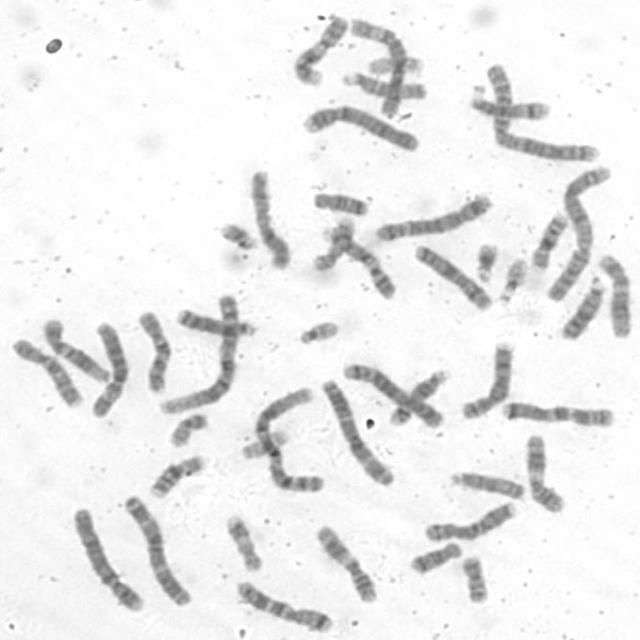A1: (158, 294, 240, 416), (254, 386, 325, 494)
A2: (486, 62, 602, 164), (543, 164, 612, 302)
A3: (319, 378, 396, 487), (122, 494, 192, 606)
B4: (72, 508, 145, 614), (300, 104, 420, 152)
B5: (343, 362, 445, 430), (373, 194, 493, 242)
C10: (11, 338, 84, 410), (138, 310, 172, 392)
C11: (317, 526, 378, 603), (524, 434, 567, 514)
C12: (42, 317, 112, 384), (598, 254, 630, 338)
C6: (349, 18, 407, 116), (92, 322, 130, 418)
C7: (235, 580, 334, 632), (502, 399, 614, 428)
C8: (459, 341, 515, 420), (424, 501, 518, 541)
C9: (326, 227, 397, 300), (293, 16, 350, 86)
D13: (560, 274, 604, 340), (175, 308, 258, 338)
D14: (389, 369, 451, 425), (468, 83, 552, 120)
D15: (342, 70, 427, 100), (449, 470, 525, 500)
E16: (150, 454, 206, 497), (531, 213, 570, 270)
E17: (312, 216, 356, 271), (225, 516, 262, 572)
E18: (409, 540, 464, 575), (312, 192, 368, 217)
F19: (240, 427, 292, 460), (368, 54, 428, 76)
F20: (462, 555, 489, 603), (170, 412, 208, 446)
G21: (220, 222, 258, 252), (474, 244, 499, 283)
G22: (496, 258, 529, 307), (300, 320, 340, 345)
X: (413, 245, 493, 312), (249, 168, 291, 270)
